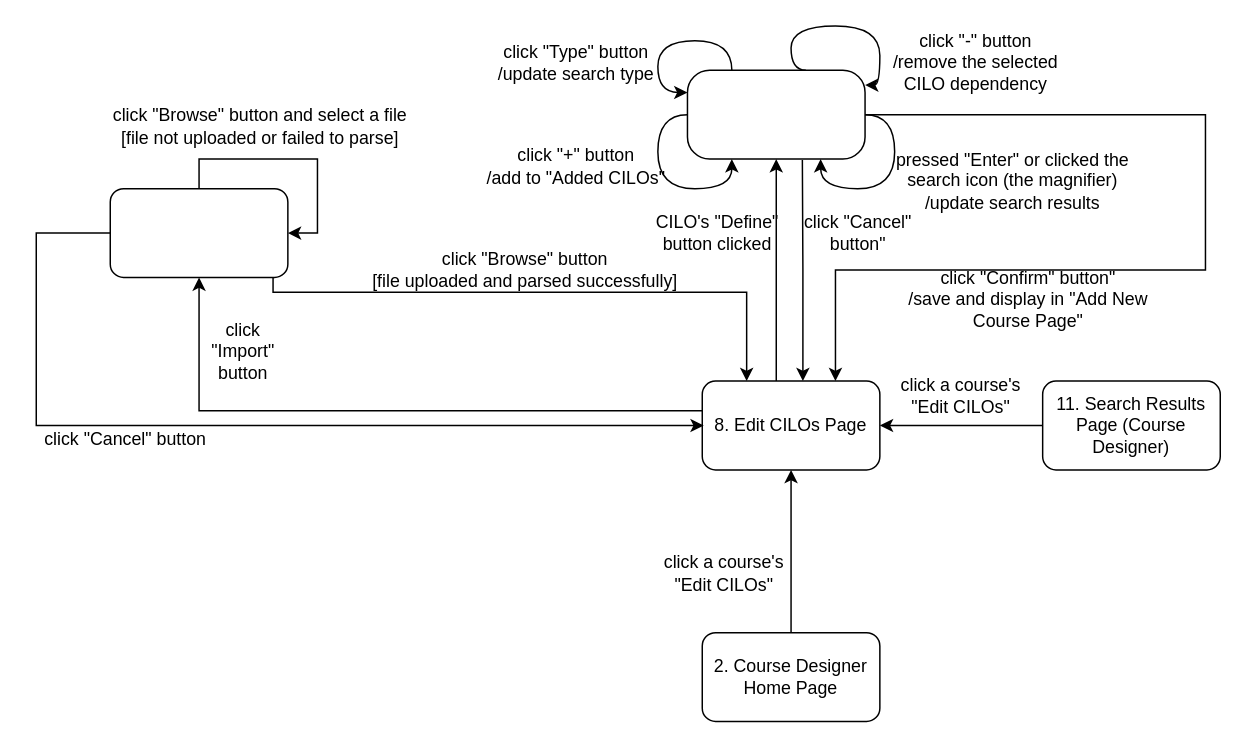
The diagram is 1246 pixels wide and 747 high, and some of its shapes have lost their labels. The shapes that lost their labels are listed below. From the top down, each one's box as (x1, y1, x2, y2) in pixels, then its label:
(686, 69, 865, 159): 6. Define CILO Dependencies Page
(109, 187, 288, 278): 7. File Upload Page
